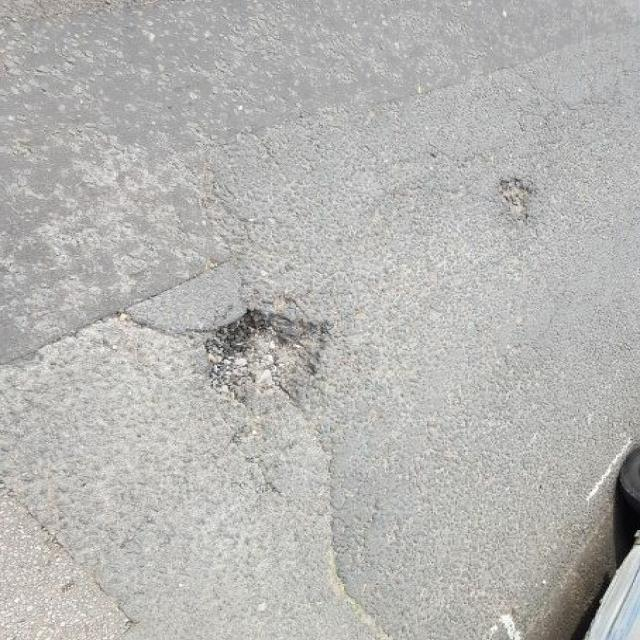pothole: (194, 304, 344, 392)
